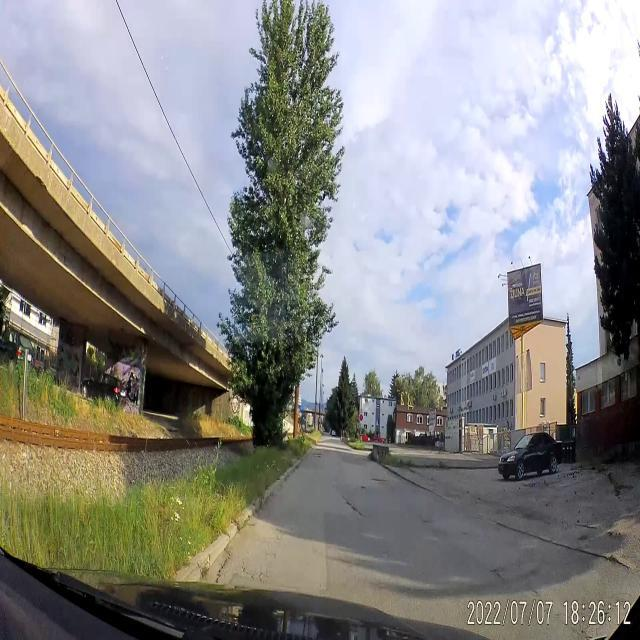Pothole: (214, 548, 234, 588), (343, 489, 363, 521), (489, 564, 506, 584), (371, 474, 389, 486), (418, 516, 438, 526), (311, 451, 324, 460), (359, 482, 368, 492)
